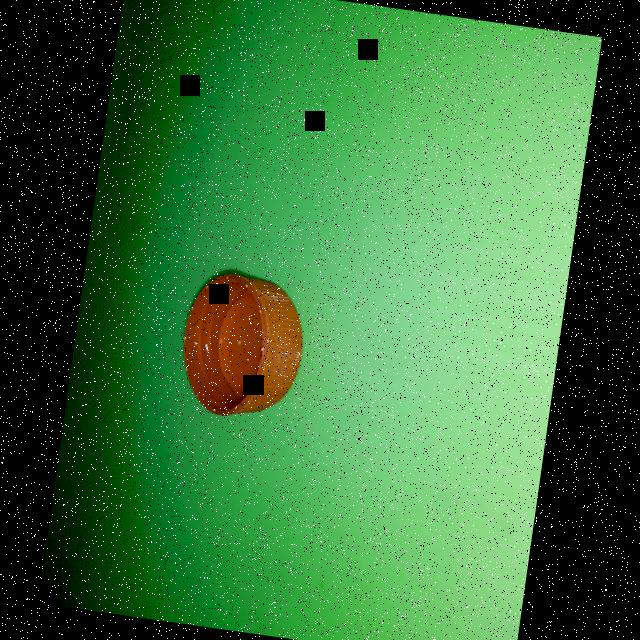plastic_bottle_cap: (171, 266, 312, 426)
